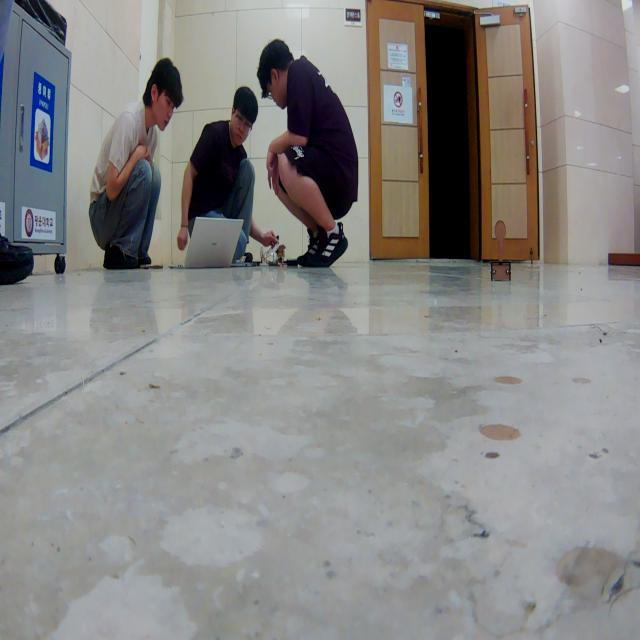target: (490, 220, 512, 281)
